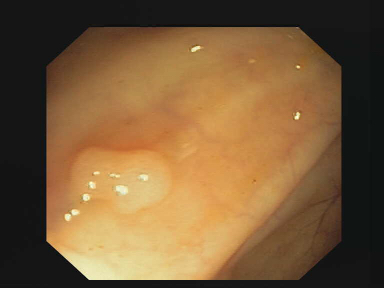polyp: (67, 142, 173, 215)
